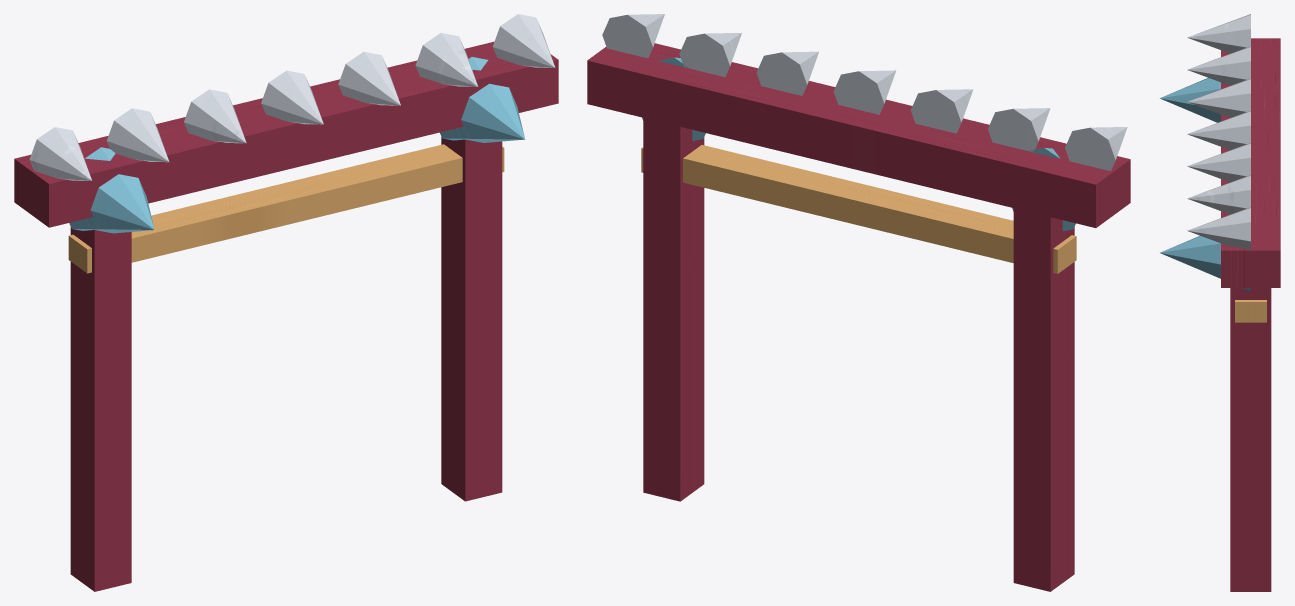
Rendered from frost_torii_gate_lod0.glb.
3 views of the same model, side by side, from view 1: azimuth 30°, elevation 25°; view 2: azimuth 150°, elevation 25°; view 3: azimuth 270°, elevation 25° (orthographic). The views are drawn at different scales.
Parts seen in each view (by area): view 1: vermillion_4, vermillion_0, vermillion_2, gold_5, ice_1, ice_3, snow_9, snow_8, snow_10, snow_12, snow_6, snow_11 (+1 smaller); view 2: vermillion_4, vermillion_0, vermillion_2, gold_5, snow_8, snow_9, snow_12, snow_7, snow_10, snow_11, snow_6; view 3: vermillion_2, vermillion_4, snow_12, ice_3, snow_9, snow_6, snow_7, snow_8, snow_10, snow_11, ice_1, gold_5.
Boxes of the visible parts, bbox=[...] form: vermillion_4: bbox=[14, 41, 558, 227]; vermillion_0: bbox=[70, 227, 131, 591]; vermillion_2: bbox=[441, 137, 502, 501]; gold_5: bbox=[68, 144, 504, 273]; ice_1: bbox=[69, 147, 154, 233]; ice_3: bbox=[439, 57, 525, 142]; snow_9: bbox=[261, 70, 323, 124]; snow_8: bbox=[184, 89, 246, 143]; snow_10: bbox=[338, 51, 400, 105]; snow_12: bbox=[492, 14, 555, 67]; snow_6: bbox=[29, 127, 91, 180]; snow_11: bbox=[415, 33, 478, 86]; vermillion_4: bbox=[587, 43, 1130, 227]; vermillion_0: bbox=[1013, 208, 1074, 591]; vermillion_2: bbox=[643, 118, 704, 501]; gold_5: bbox=[641, 145, 1076, 273]; snow_8: bbox=[910, 89, 973, 133]; snow_9: bbox=[833, 70, 896, 114]; snow_12: bbox=[602, 14, 664, 58]; snow_7: bbox=[988, 108, 1050, 152]; snow_10: bbox=[756, 51, 818, 95]; snow_11: bbox=[679, 32, 741, 77]; snow_6: bbox=[1065, 127, 1127, 171]; vermillion_2: bbox=[1230, 288, 1271, 591]; vermillion_4: bbox=[1221, 38, 1280, 287]; snow_12: bbox=[1187, 207, 1250, 249]; ice_3: bbox=[1160, 235, 1250, 291]; snow_9: bbox=[1187, 110, 1250, 149]; snow_6: bbox=[1187, 14, 1250, 53]; snow_7: bbox=[1187, 46, 1250, 85]; snow_8: bbox=[1187, 78, 1250, 117]; snow_10: bbox=[1187, 143, 1250, 181]; snow_11: bbox=[1187, 175, 1250, 214]; ice_1: bbox=[1160, 77, 1220, 122]; gold_5: bbox=[1235, 300, 1266, 322].
Bounding box in the file's own units: 11.1 × 9.55 × 2.65.
Materials: 4 (4 with a texture image).
